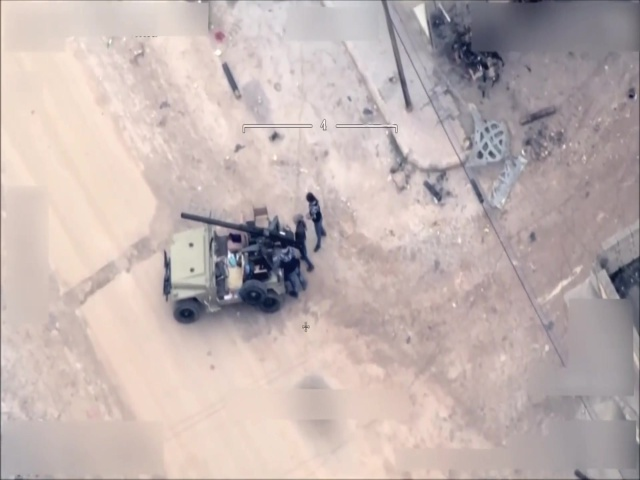person: (271, 238, 308, 300), (287, 211, 317, 275), (304, 190, 329, 256)
vehicle: (163, 214, 285, 322)
